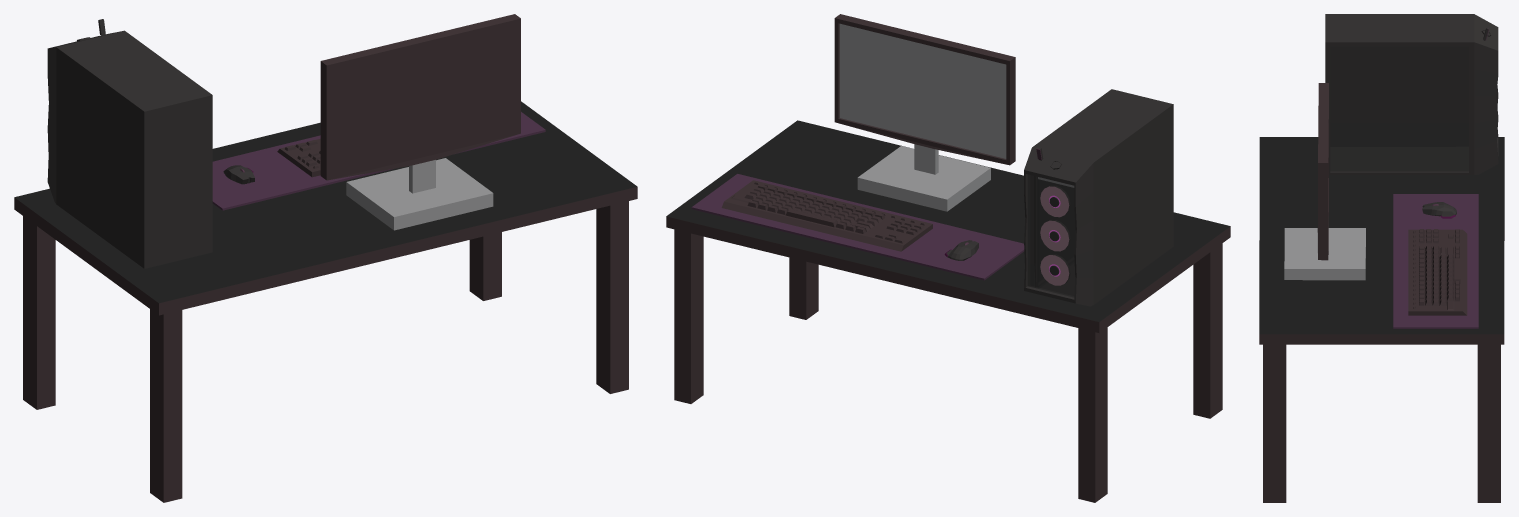
File: PC Black.fbx
3 views of the same model, side by side, from view 1: azimuth 30°, elevation 25°; view 2: azimuth 150°, elevation 25°; view 3: azimuth 270°, elevation 25° (orthographic). The views are drawn at different scales.
Parts seen in each view (by area): view 1: Cube; view 2: Cube; view 3: Cube.
Boxes of the visible parts, box(x1,y1,x2,y2) form: Cube: box(14, 14, 637, 502); Cube: box(666, 14, 1230, 502); Cube: box(1259, 14, 1504, 502).
Size of the model in its own units: 167 by 123 by 87.48.
